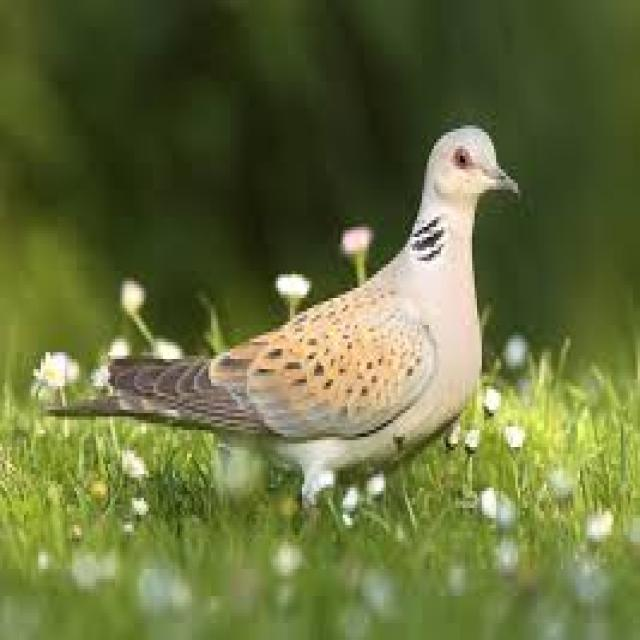pigeon: (56, 117, 538, 516)
